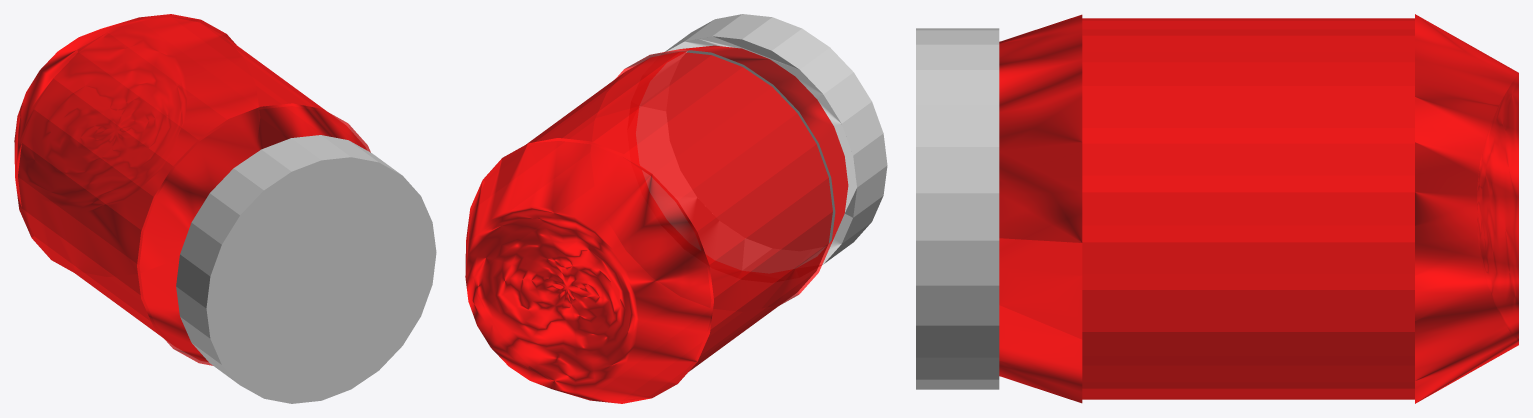
Rendered from model_align.obj.
3 renders of one model, left to right at view 1: azimuth 30°, elevation 25°; view 2: azimuth 150°, elevation 25°; view 3: azimuth 270°, elevation 25°, orthographic. The views are drawn at different scales.
Size of the model in its own units: 0.0702 by 0.0701 by 0.108.
